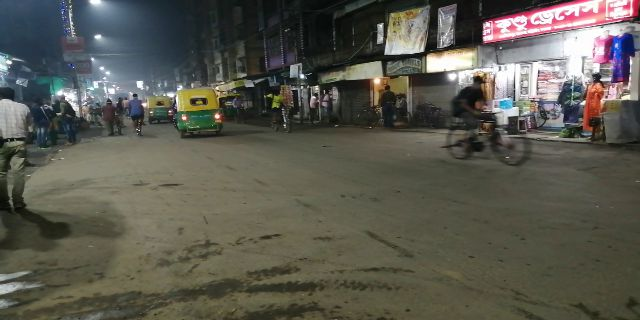Autorickshaw: (171, 89, 232, 134), (145, 95, 173, 123)
Cycle: (447, 77, 537, 168)
